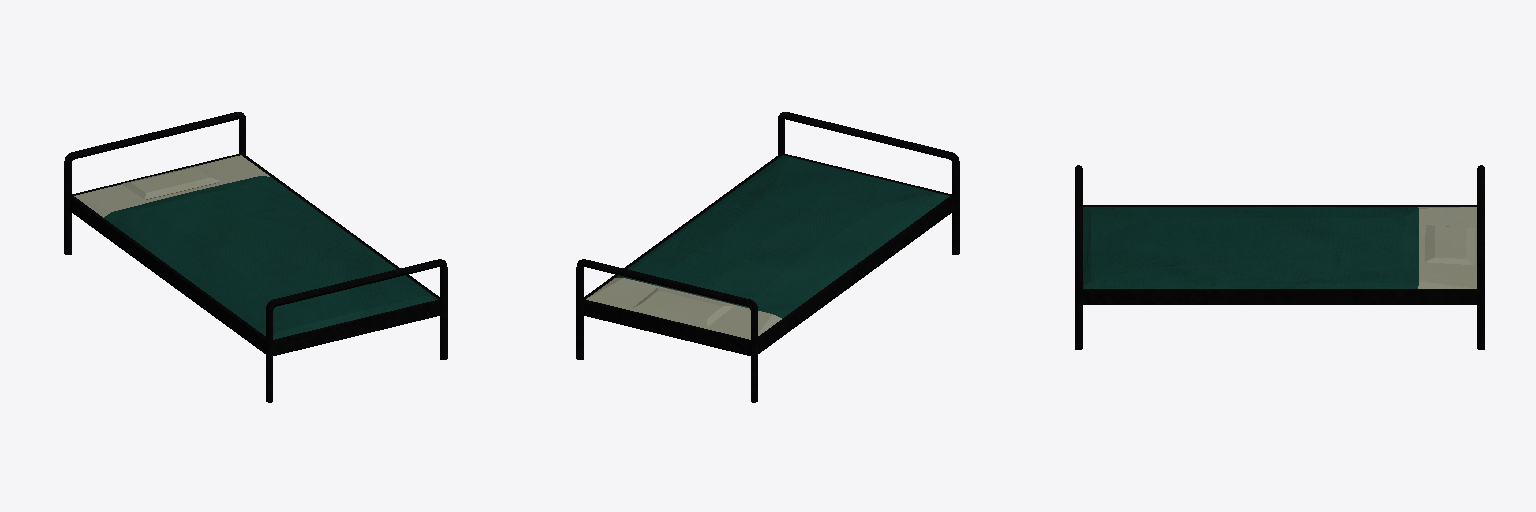
3 renders of one model, left to right at view 1: azimuth 30°, elevation 25°; view 2: azimuth 150°, elevation 25°; view 3: azimuth 270°, elevation 25°, orthographic.
Visible parts, largest first — view 1: skin; view 2: skin; view 3: skin.
Part boxes in pixels (left/top/right/bottom): skin: left=64, top=112, right=447, bottom=402; skin: left=576, top=112, right=959, bottom=402; skin: left=1075, top=165, right=1484, bottom=349.
Size of the model in its own units: 5.2 by 2.75 by 10.2.
1 materials, 1 textured.